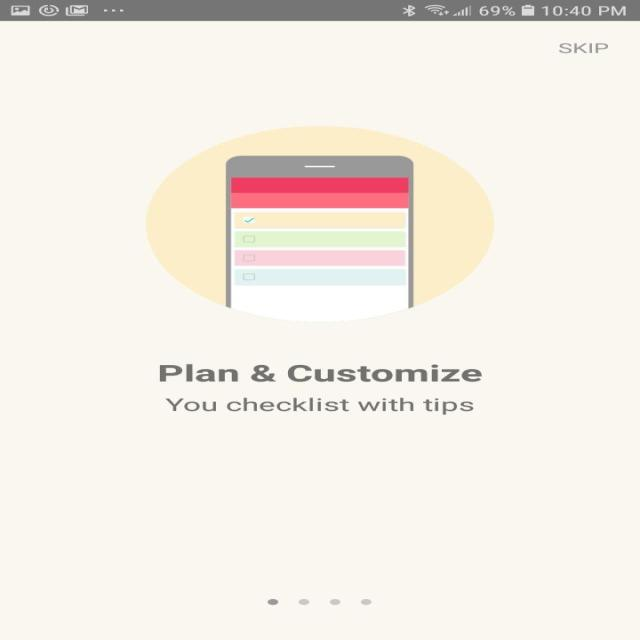Image: (144, 125, 494, 323)
Text: (159, 364, 482, 382), (164, 397, 474, 415), (557, 43, 608, 53)
